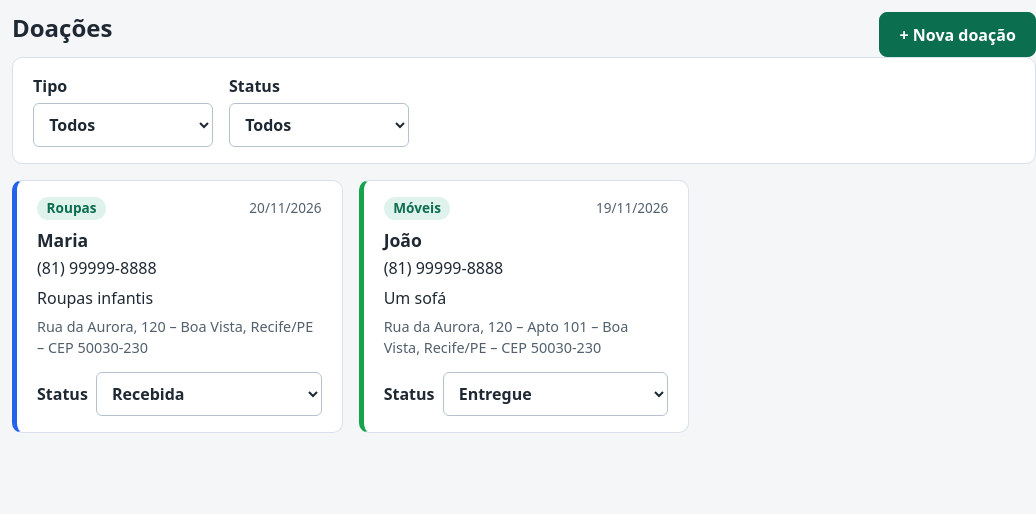
Scenario: falha ao mudar o status volta ao valor anterior e avisa
Select "Entregue" in the dropdown named "Status da doação de Maria". click: [209, 394]
box: 96,372 -> 322,416
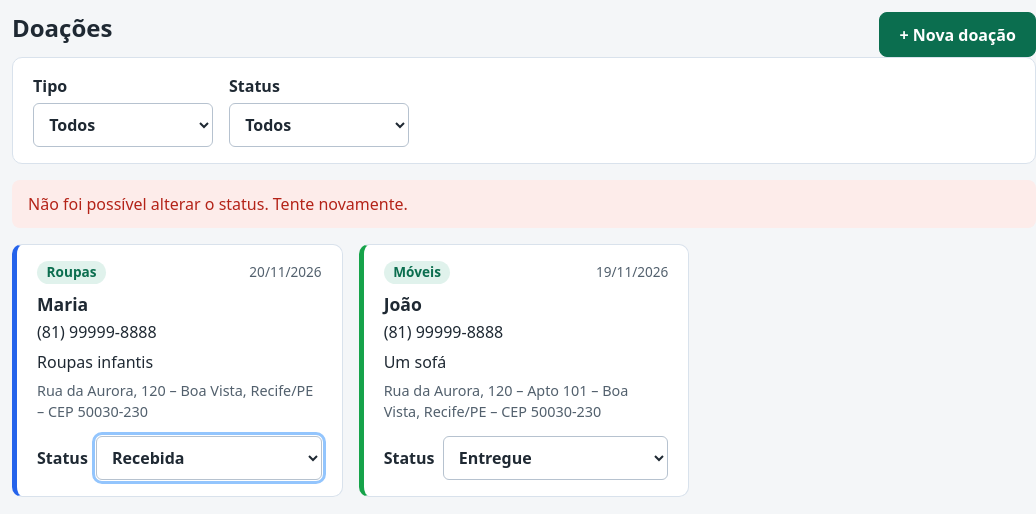
Expected: the message reads "Não foi possível alterar o status. Tente novamente.", 28,193 -> 408,215
